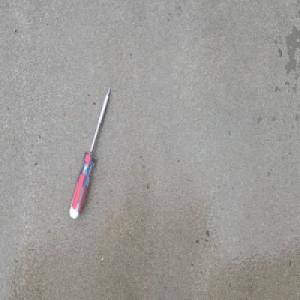Screwdriver: (67, 85, 111, 221)
